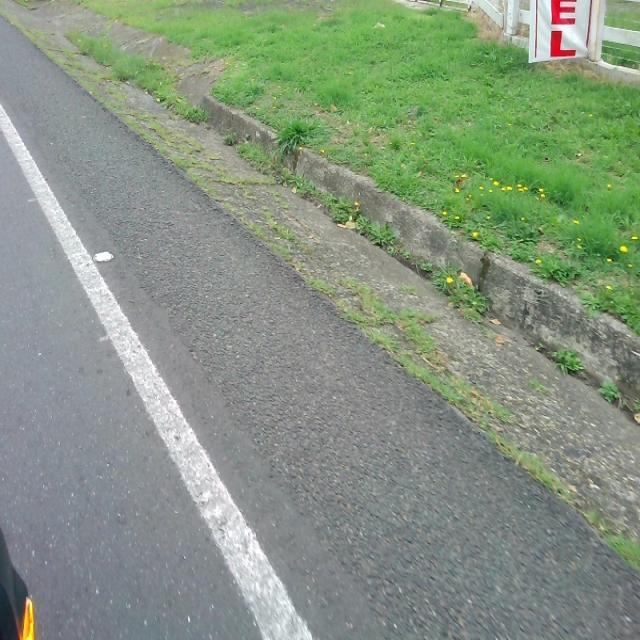DITCH: (1, 2, 638, 638), (3, 20, 638, 638), (1, 61, 638, 638)
